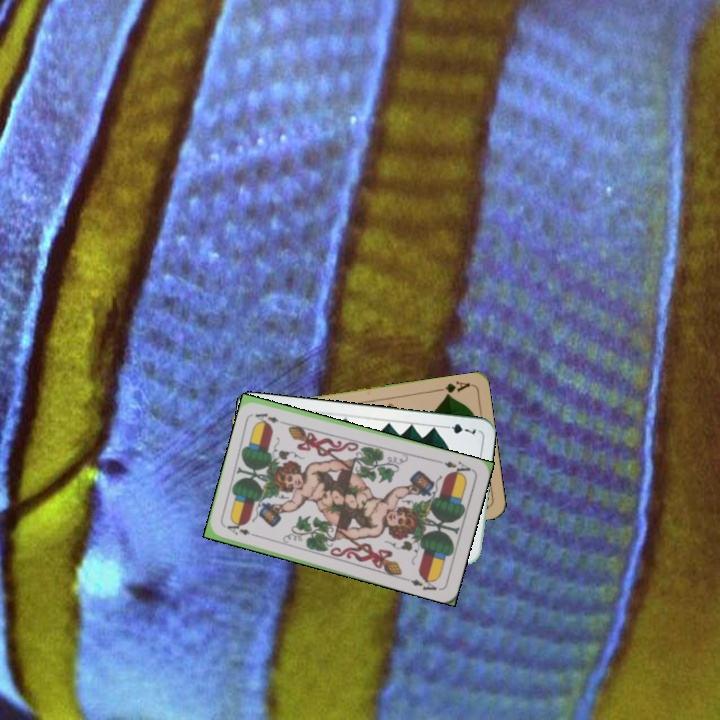EA: (435, 457, 475, 479), (223, 521, 252, 538)
G7: (439, 420, 479, 439)
GA: (432, 377, 472, 399)
